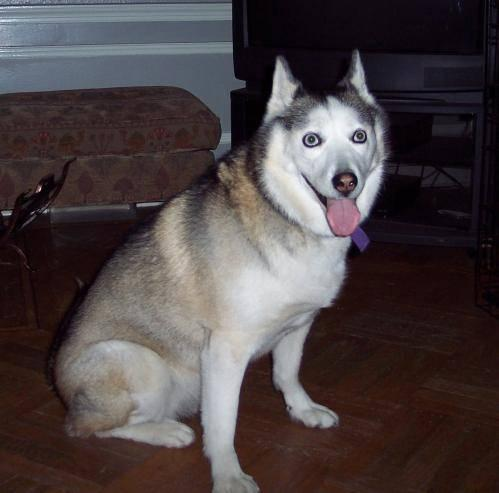dog: (54, 50, 389, 492)
